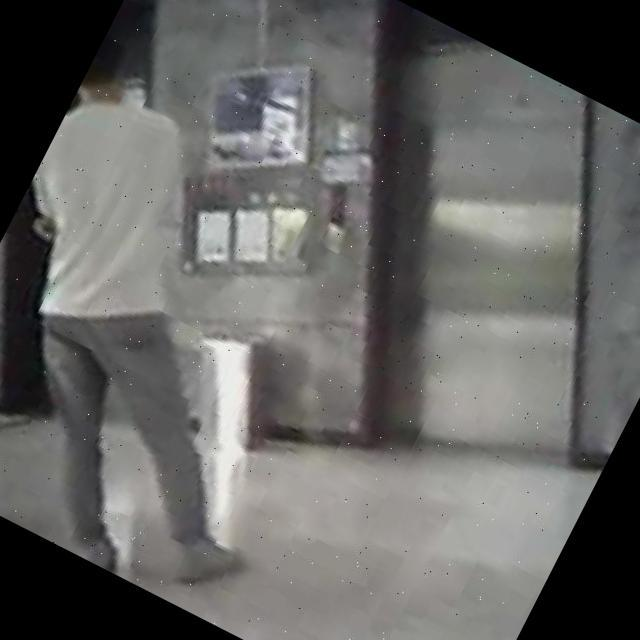person: (0, 30, 423, 619)
